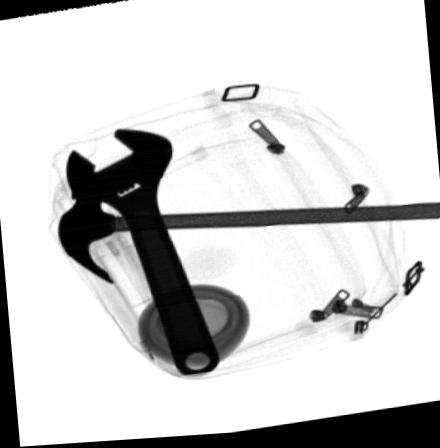Hammer: (56, 175, 440, 285)
Wrench: (64, 129, 220, 379)
